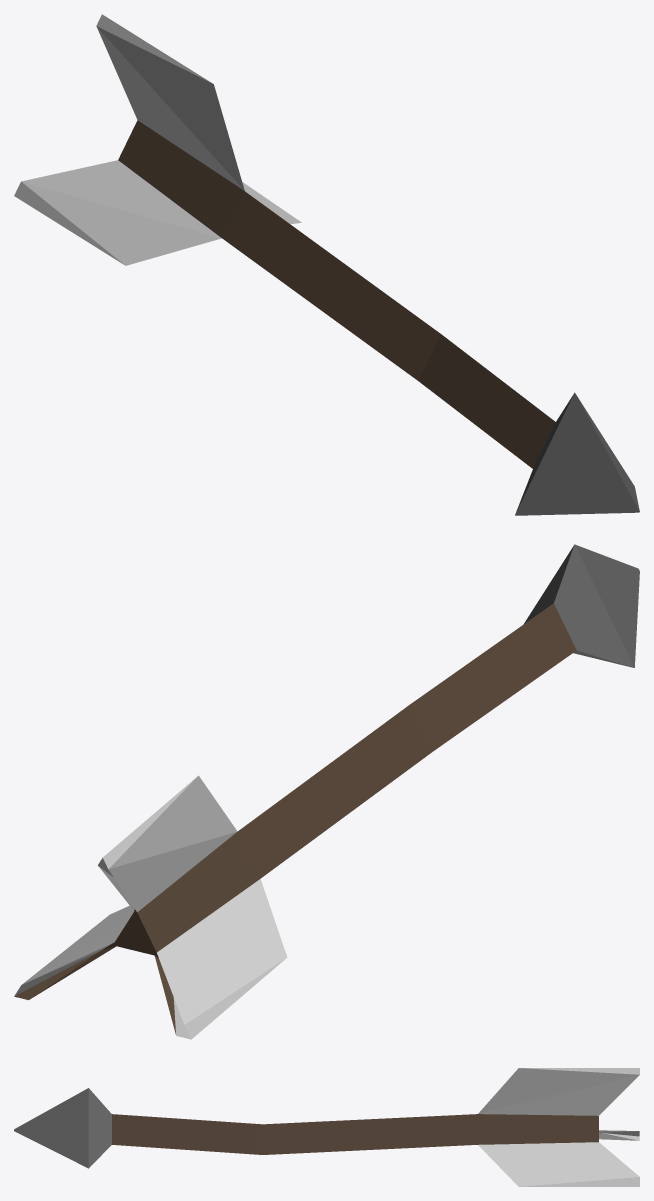
The model's file is Arrow.fbx.
The picture shows the model from 3 angles, top to bottom: view 1: azimuth 30°, elevation 25°; view 2: azimuth 150°, elevation 25°; view 3: azimuth 270°, elevation 25°; orthographic projection. The views are drawn at different scales.
Parts seen in each view (by area): view 1: Arrow; view 2: Arrow; view 3: Arrow.
Boxes of the visible parts, x1,y1,x2,y2 form: Arrow: (14, 14, 639, 515); Arrow: (14, 544, 639, 1039); Arrow: (14, 1068, 639, 1186).
Size of the model in its own units: 54.4 by 46.21 by 273.
